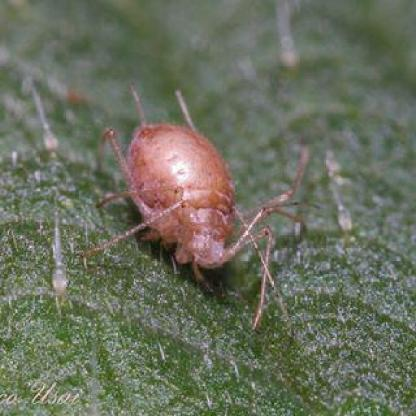aphid: (83, 80, 309, 323)
